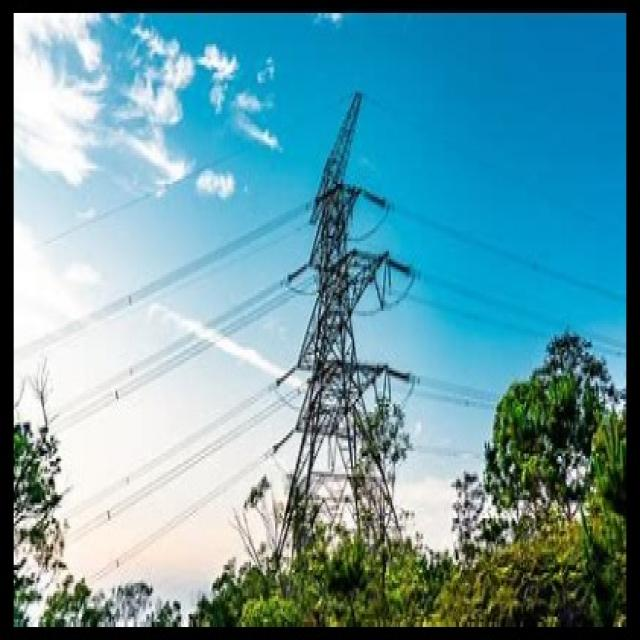utility poles: (298, 382, 424, 586), (472, 315, 606, 466)
